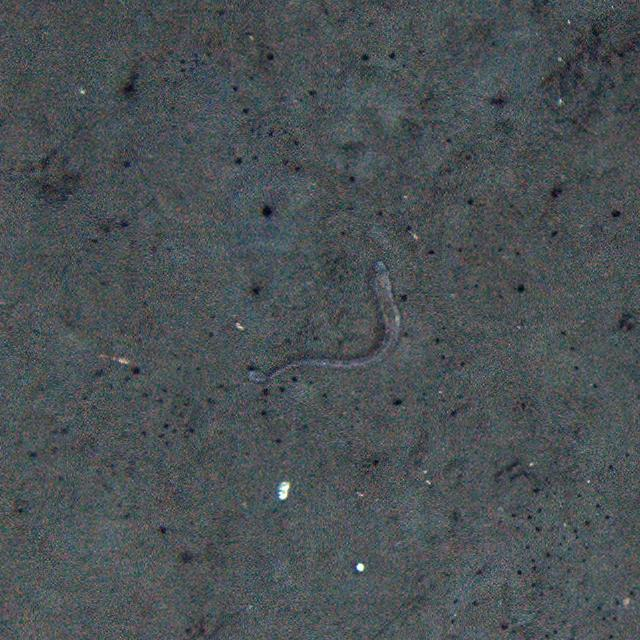roundfish: (256, 262, 407, 384)
